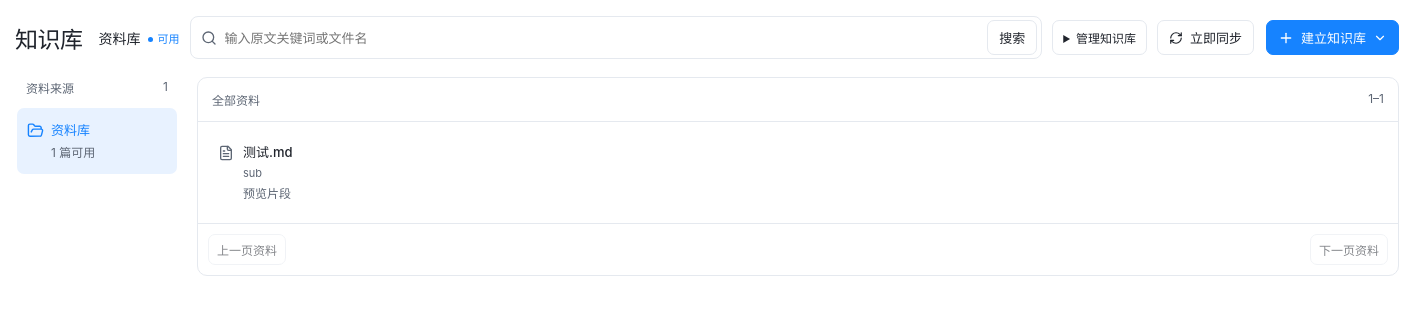
Test: changed source replaces preview with a truthful error
The width and height of the screenshot is (1416, 329).
Click the button with aria-label "sub/测试.md". click: (268, 152)
box: [208,132,1373,213]
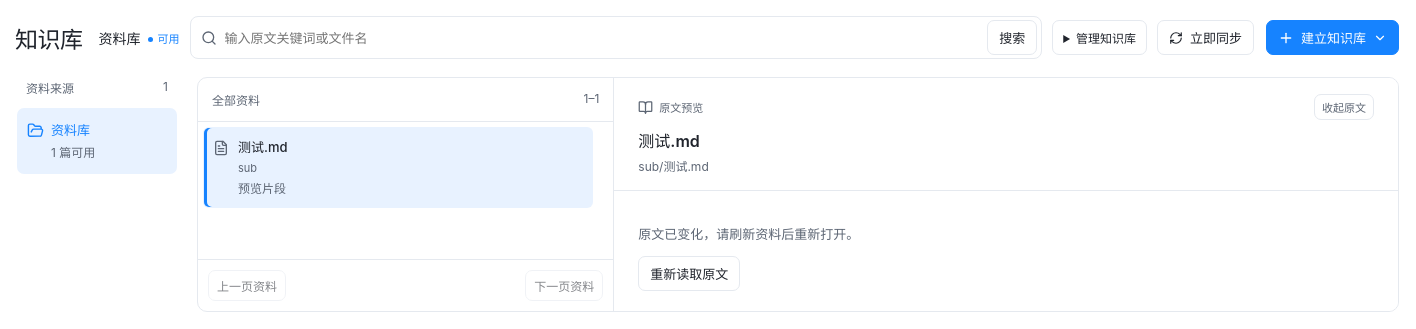
Result: the text "原文已变化，请刷新资料后重新打开。" is shown at [638,226,859,242]
